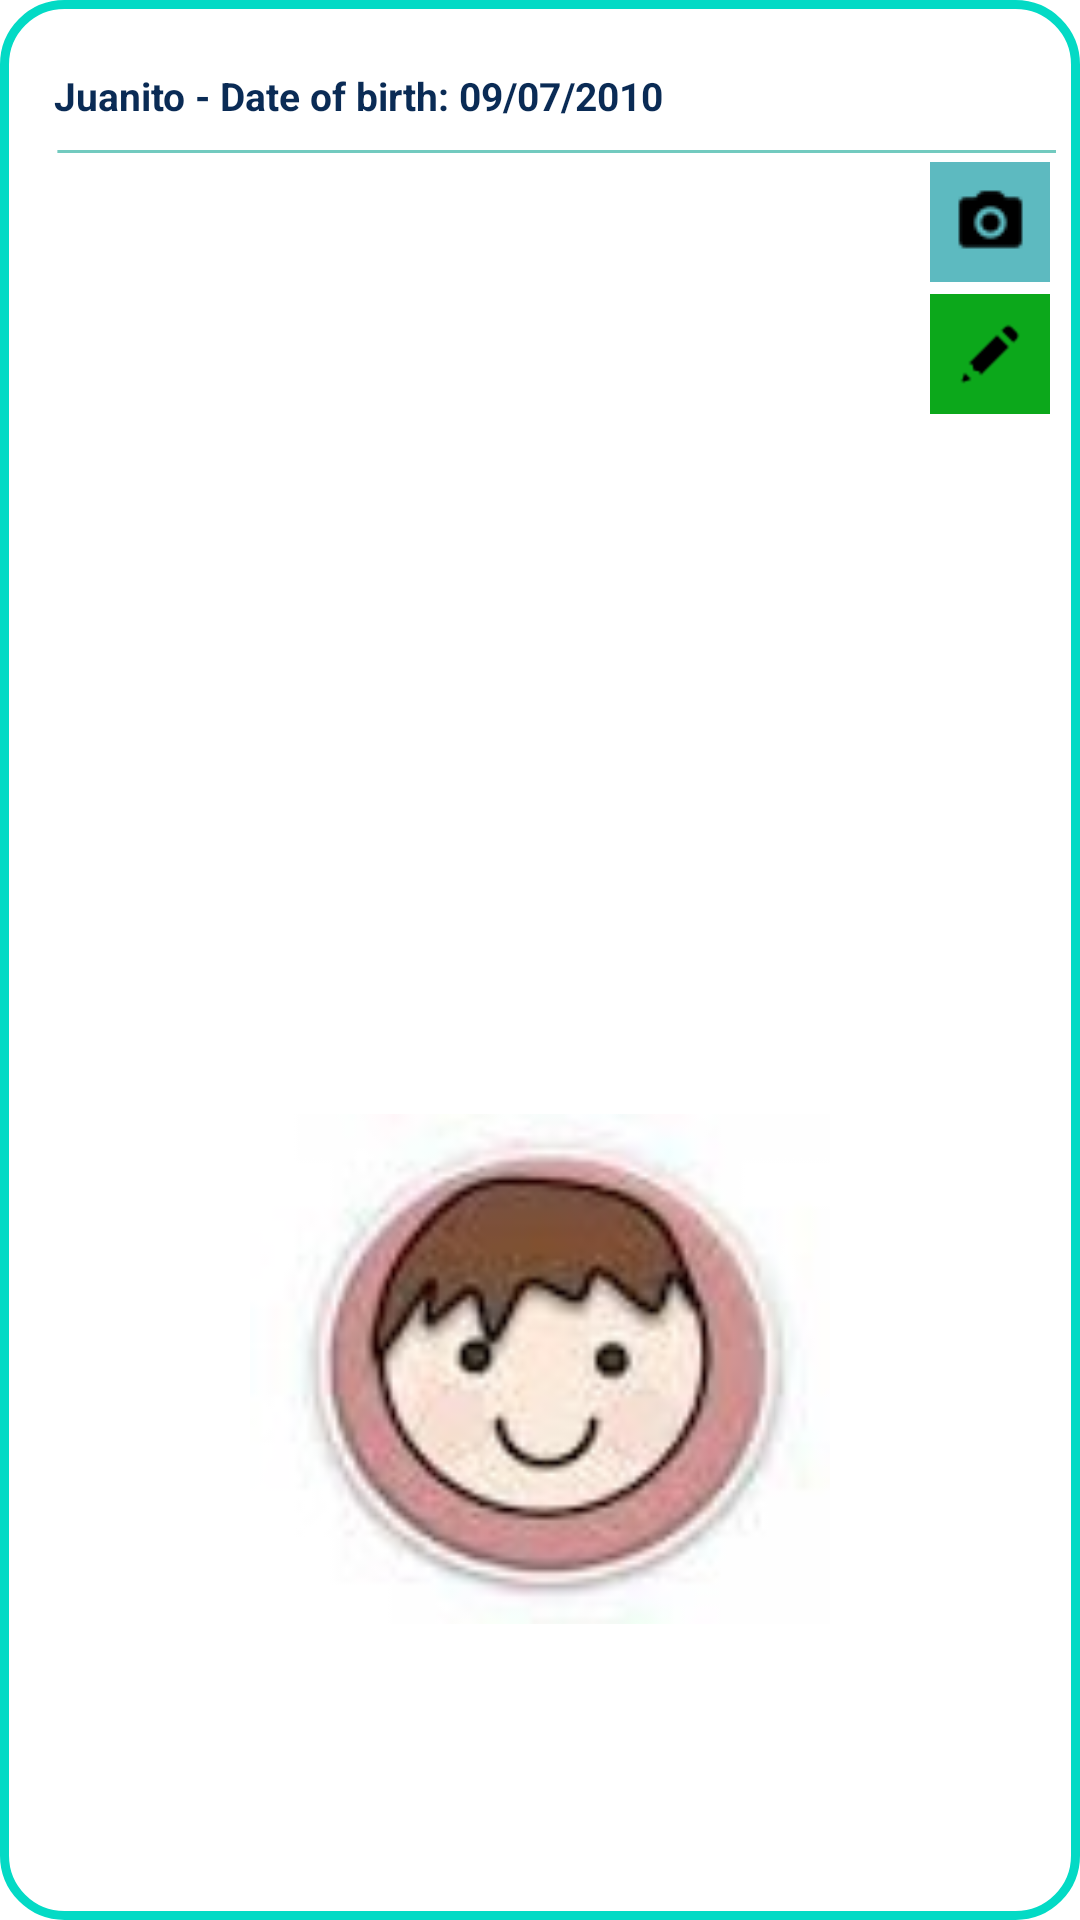

Screen size 1080 x 1920. Icon name, then its box in pixels as box=[x1, y1, x2, y2]:
cam negra: box=[930, 162, 1050, 282]
lapiz: box=[930, 294, 1050, 414]
